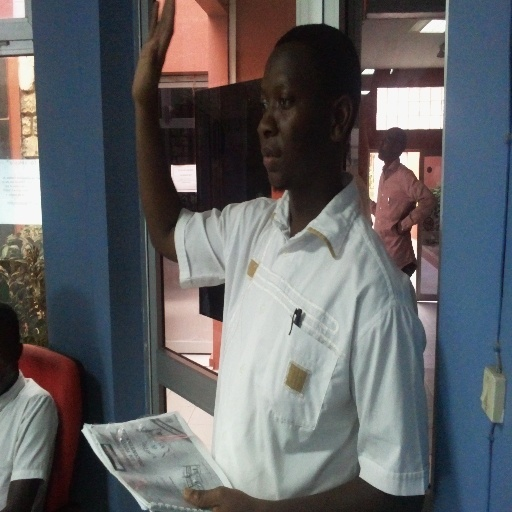hand: (131, 0, 175, 96), (182, 483, 255, 511), (396, 220, 404, 234)
